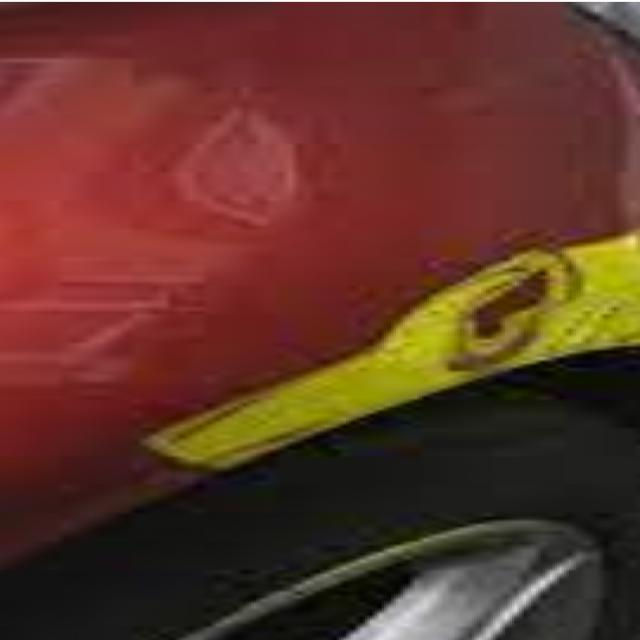dents: (144, 99, 428, 229), (393, 267, 609, 362)
